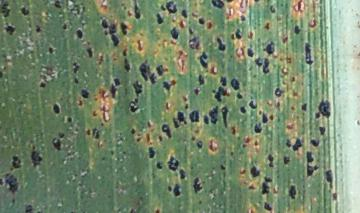tarspot: (100, 18, 120, 48), (138, 59, 158, 86), (128, 80, 143, 114), (304, 150, 320, 178), (2, 172, 20, 194), (314, 98, 331, 121), (29, 144, 43, 168), (211, 86, 232, 102), (254, 56, 272, 74), (302, 40, 314, 66), (171, 111, 188, 129), (109, 78, 121, 100), (8, 155, 23, 172), (187, 34, 202, 51), (166, 154, 180, 172), (324, 168, 334, 193), (207, 104, 218, 126), (196, 51, 208, 71), (261, 175, 273, 195), (191, 175, 204, 193), (220, 104, 229, 129), (291, 137, 304, 153), (249, 164, 261, 181), (215, 36, 227, 53), (161, 79, 178, 91), (132, 1, 142, 21), (161, 123, 173, 139), (287, 182, 297, 201), (155, 64, 169, 77), (2, 24, 17, 36), (165, 1, 177, 16), (97, 87, 109, 102), (1, 2, 12, 18), (51, 136, 62, 152), (169, 26, 181, 40), (188, 109, 200, 123), (122, 57, 132, 73), (230, 77, 241, 91), (154, 12, 165, 26), (265, 41, 275, 56), (119, 21, 129, 36), (261, 201, 273, 213), (266, 153, 275, 169), (90, 127, 101, 140), (74, 28, 84, 42), (135, 38, 144, 53), (247, 100, 259, 111), (273, 87, 285, 98), (292, 1, 303, 13), (308, 137, 321, 147), (253, 122, 263, 135), (178, 168, 188, 181), (173, 182, 181, 198), (146, 145, 155, 159), (282, 154, 291, 168), (201, 114, 210, 128), (19, 6, 30, 17), (317, 125, 327, 137), (71, 62, 81, 74), (192, 123, 202, 135), (52, 102, 61, 115), (85, 46, 94, 59), (246, 46, 255, 59), (210, 1, 224, 9), (307, 18, 317, 29), (284, 137, 293, 149), (80, 88, 89, 100), (197, 73, 205, 86), (24, 203, 34, 213), (196, 17, 206, 27), (247, 182, 258, 191), (229, 125, 238, 136), (268, 4, 277, 15), (260, 112, 268, 124), (144, 131, 152, 143), (330, 192, 339, 202), (235, 91, 244, 101), (195, 140, 204, 150), (245, 30, 254, 40), (300, 102, 308, 113), (293, 24, 301, 35), (180, 8, 188, 19), (219, 76, 227, 87), (97, 55, 105, 66), (291, 87, 299, 98), (155, 161, 164, 170), (218, 163, 227, 172), (120, 47, 129, 56), (186, 26, 195, 35), (238, 105, 246, 115), (129, 126, 137, 136), (56, 131, 66, 139), (192, 86, 200, 96), (239, 14, 247, 24), (281, 35, 289, 45), (54, 1, 63, 9), (235, 27, 241, 39), (238, 168, 247, 176), (206, 21, 214, 30), (181, 94, 190, 102), (34, 23, 41, 33), (47, 45, 54, 55), (268, 112, 275, 122), (247, 206, 257, 213), (65, 116, 73, 124), (263, 22, 271, 30), (157, 134, 164, 143), (159, 3, 166, 12), (73, 76, 80, 85), (229, 32, 236, 41), (243, 135, 250, 144), (229, 149, 236, 158), (146, 120, 153, 129), (135, 136, 144, 143), (290, 75, 297, 84), (91, 109, 98, 118), (288, 104, 297, 111), (126, 9, 133, 18), (164, 101, 170, 111), (166, 184, 173, 192), (38, 81, 46, 88), (183, 102, 190, 110), (189, 134, 196, 142), (127, 207, 136, 213), (85, 128, 91, 137), (253, 138, 259, 147), (152, 207, 160, 213), (62, 22, 68, 30), (77, 99, 83, 107), (197, 199, 204, 205), (100, 156, 107, 162), (121, 149, 127, 155), (109, 149, 114, 156), (224, 1, 235, 4), (1, 176, 4, 186), (1, 70, 4, 80), (253, 1, 260, 3)
